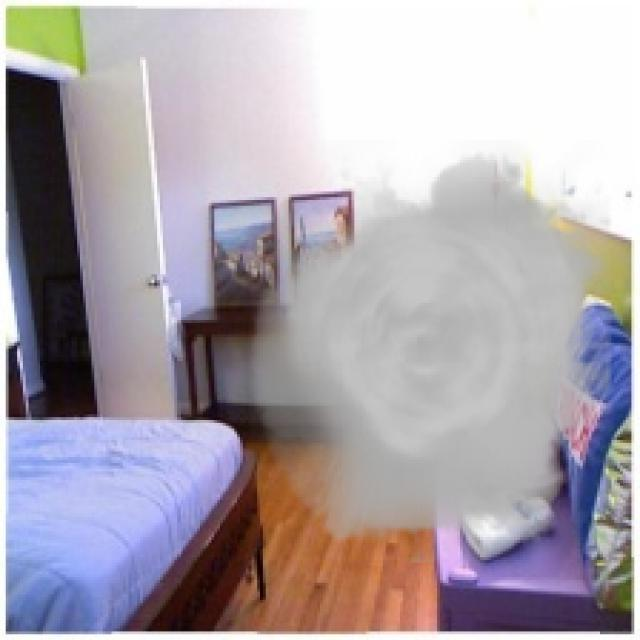Smoke: (248, 140, 612, 563)
